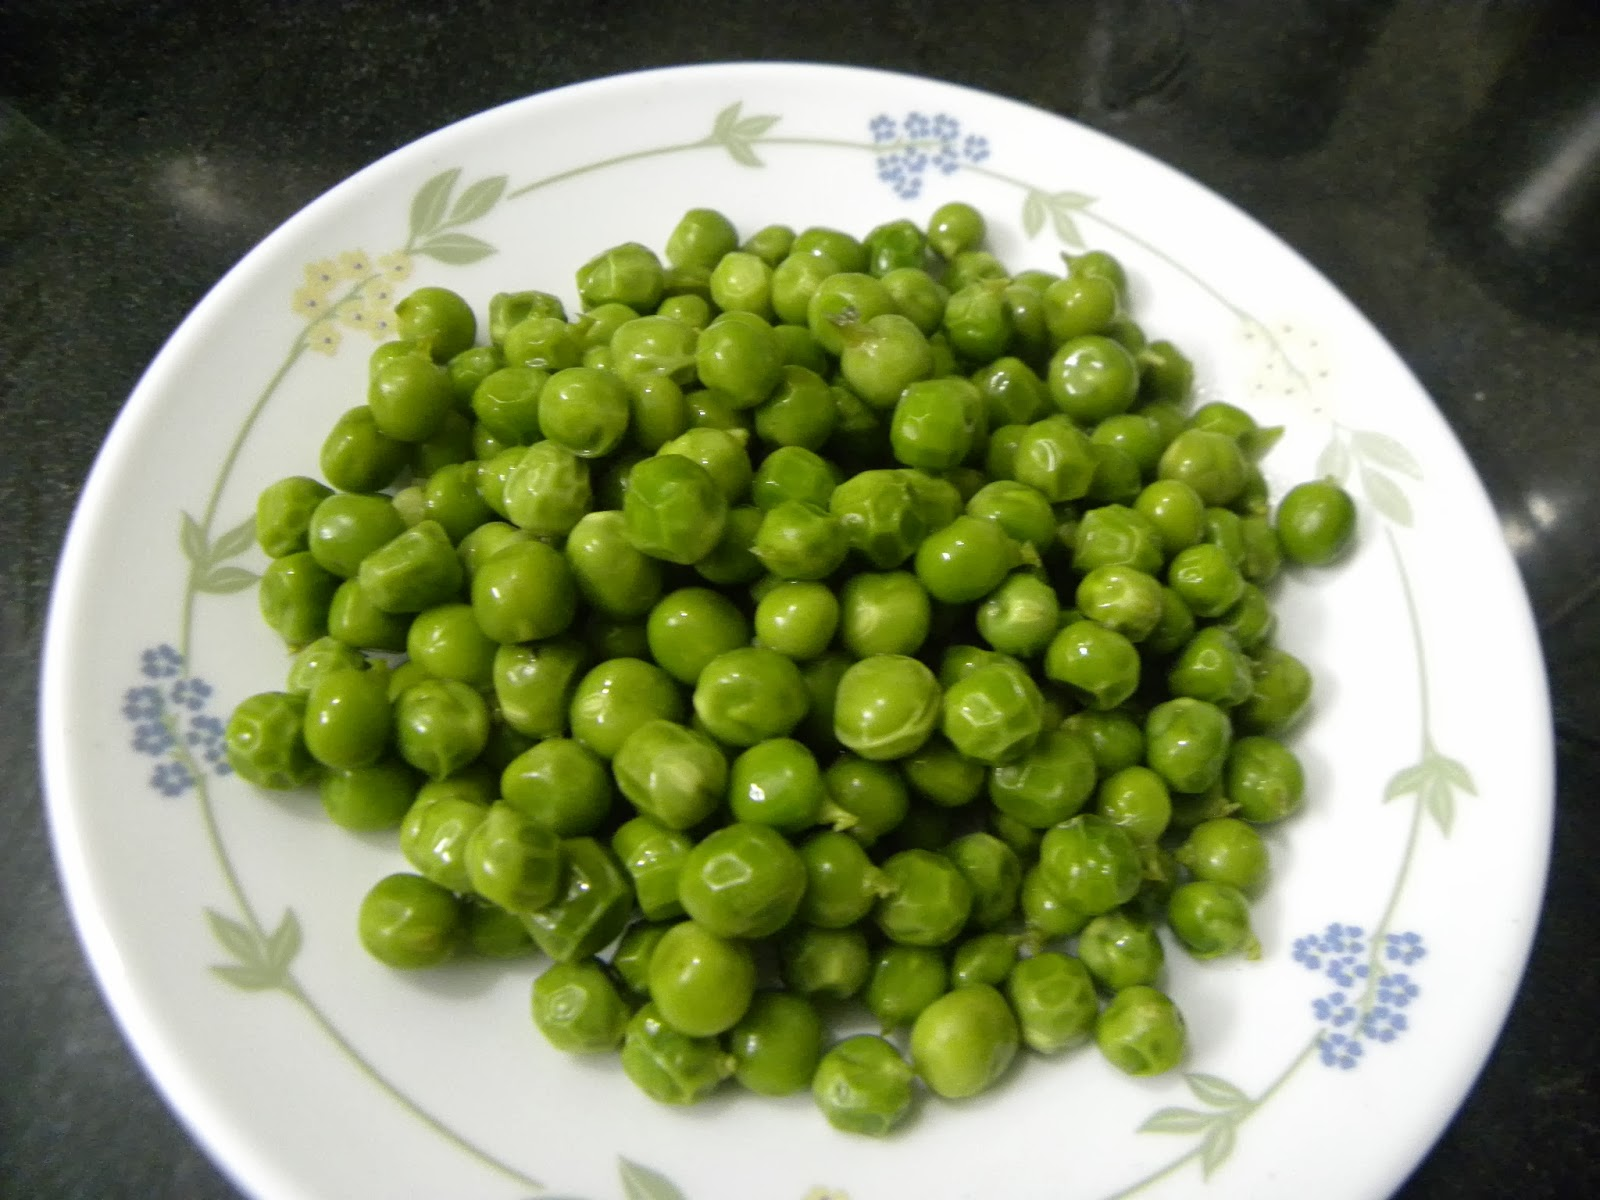boiled peas: (304, 263, 1296, 1088)
